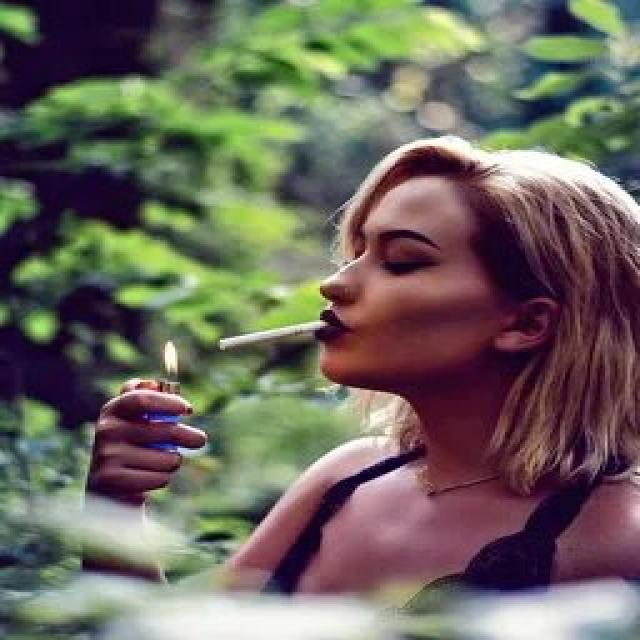cigarette: (218, 314, 332, 352)
